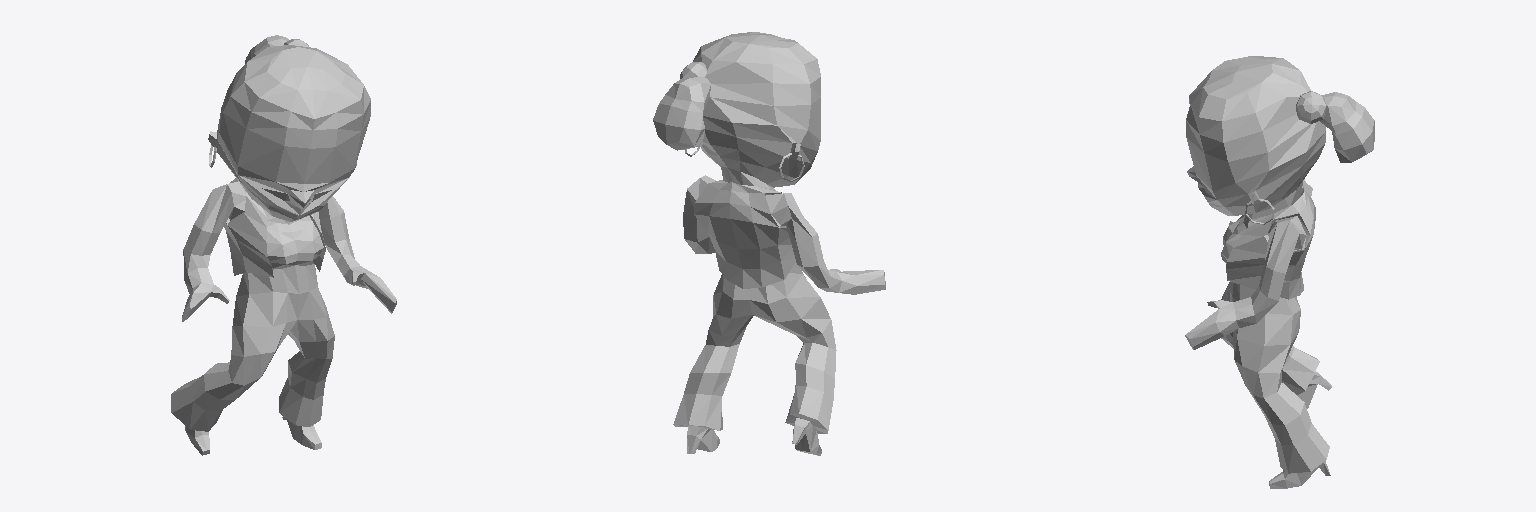
File: bailarina_000110.obj
3 views of the same model, side by side, from view 1: azimuth 30°, elevation 25°; view 2: azimuth 150°, elevation 25°; view 3: azimuth 270°, elevation 25° (orthographic).
Parts seen in each view (by area): view 1: bAilarina:Mesh; view 2: bAilarina:Mesh; view 3: bAilarina:Mesh.
Boxes of the visible parts, box(x1,y1,x2,y2) form: bAilarina:Mesh: box(171, 35, 396, 455); bAilarina:Mesh: box(653, 32, 885, 455); bAilarina:Mesh: box(1185, 56, 1374, 488).
Size of the model in its own units: 8.38 by 16.97 by 7.17.